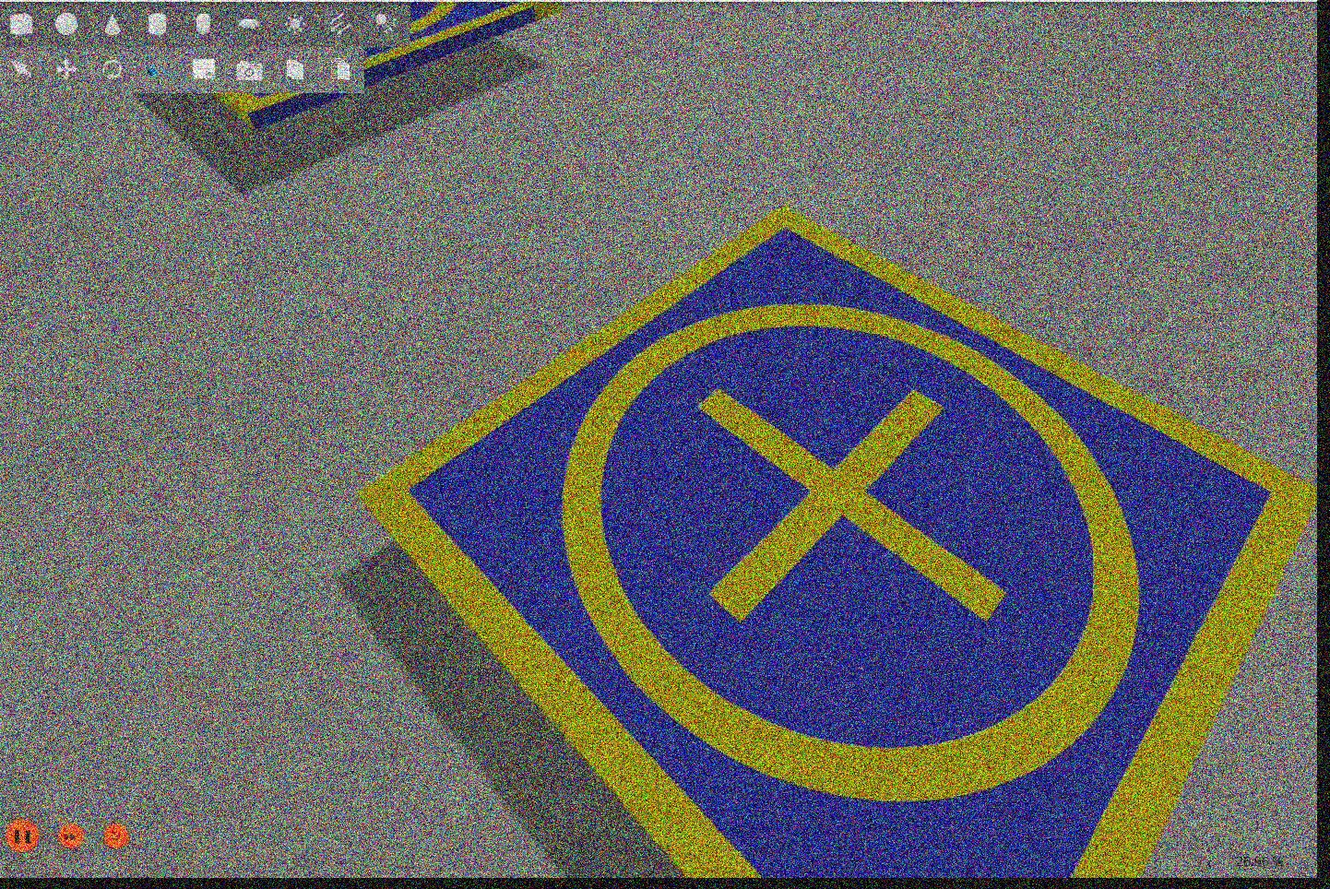small_base: (350, 201, 1319, 883)
